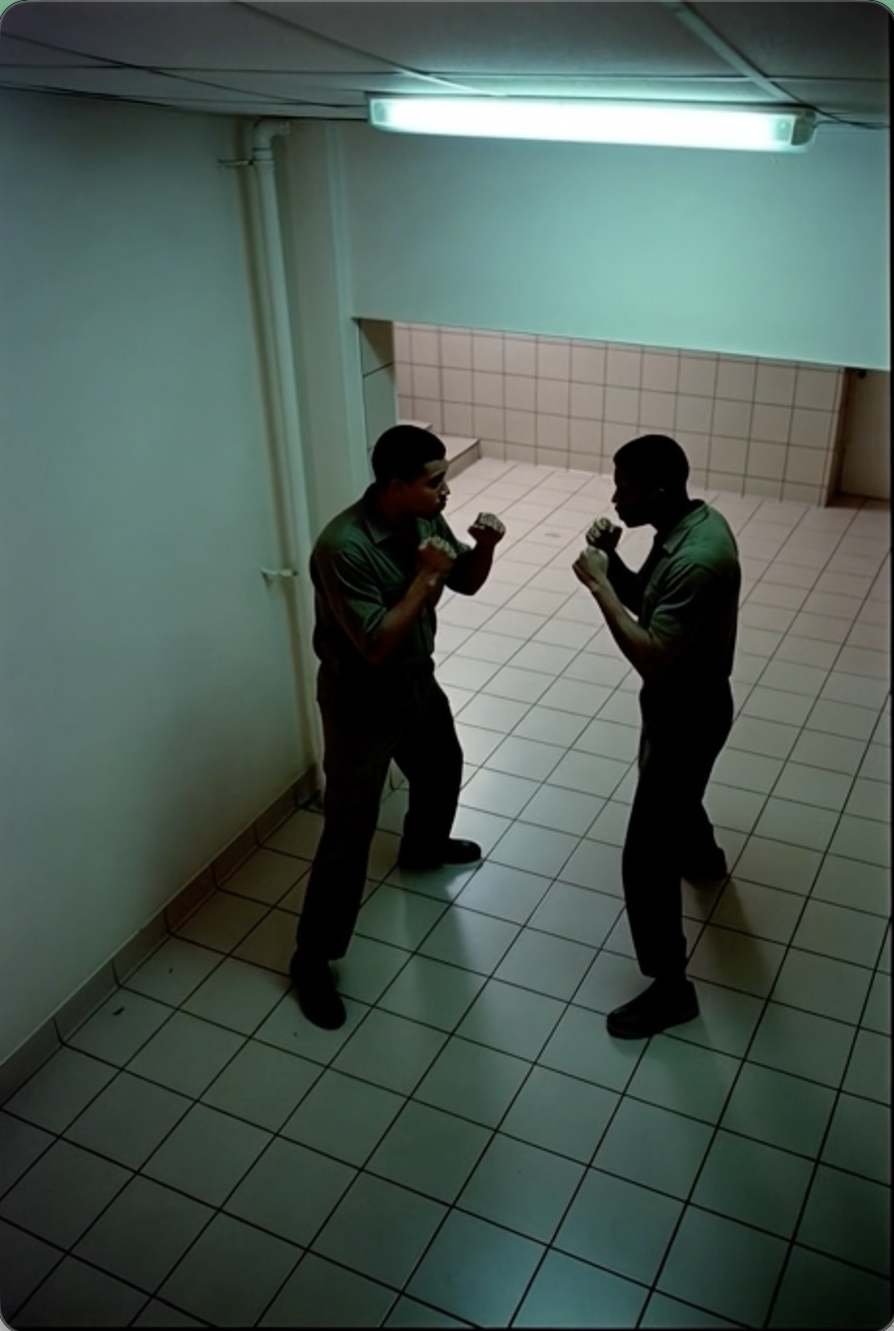Assault: (574, 433, 743, 1037)
Fighting: (286, 423, 505, 1031)
